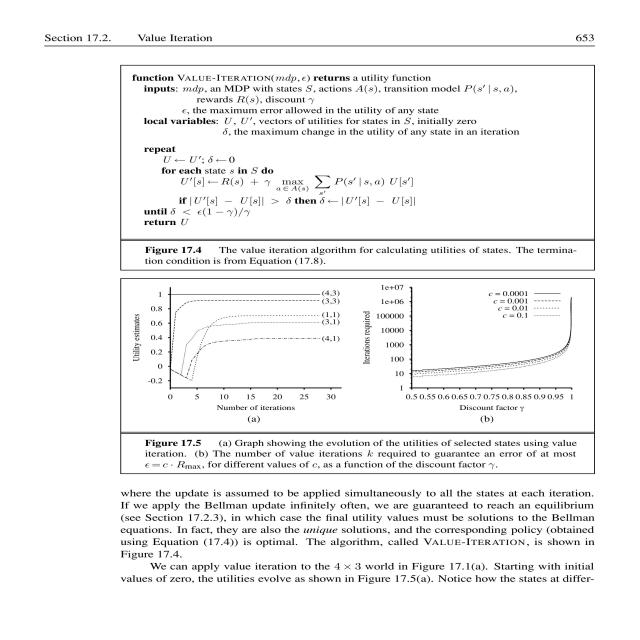diagram: (101, 275, 615, 483)
